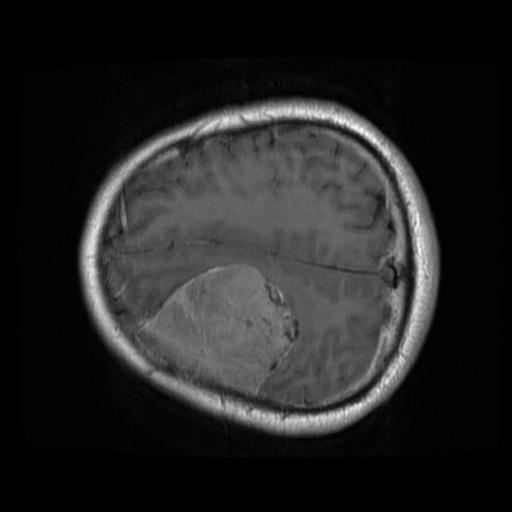meningioma: (137, 265, 297, 396)
